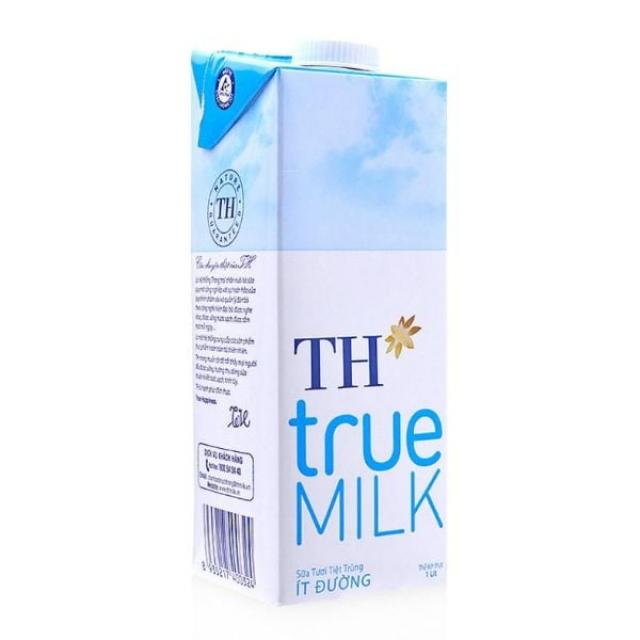non_white_jug: (151, 18, 330, 403)
